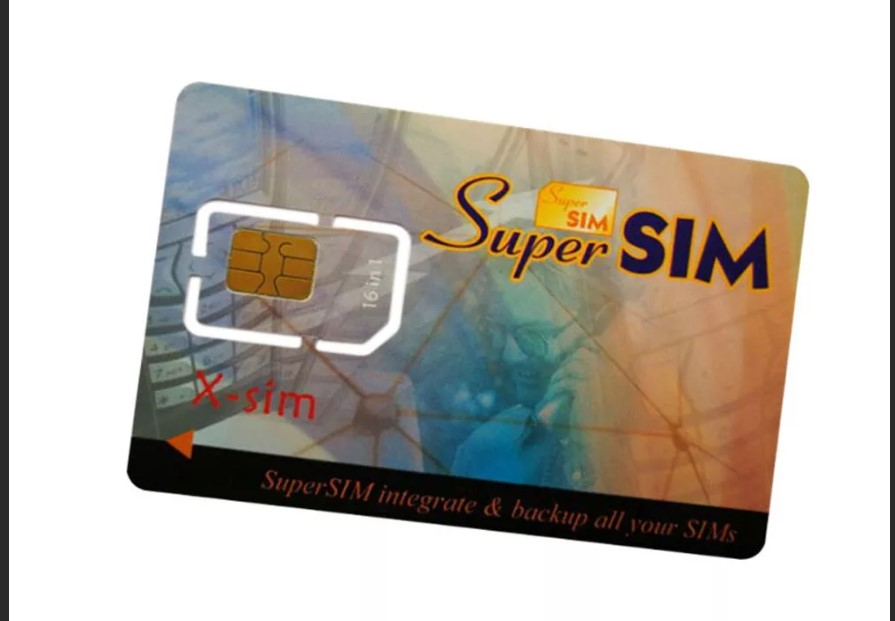card: (126, 81, 810, 560)
